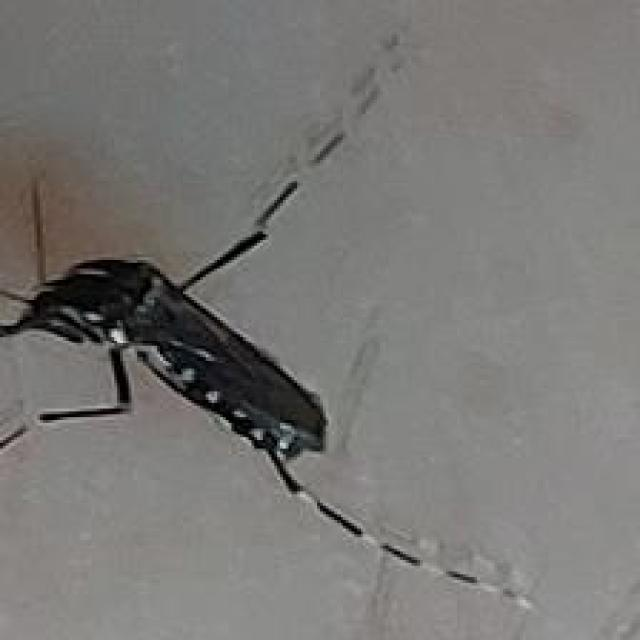Aedes albopictus: (0, 26, 537, 611)
